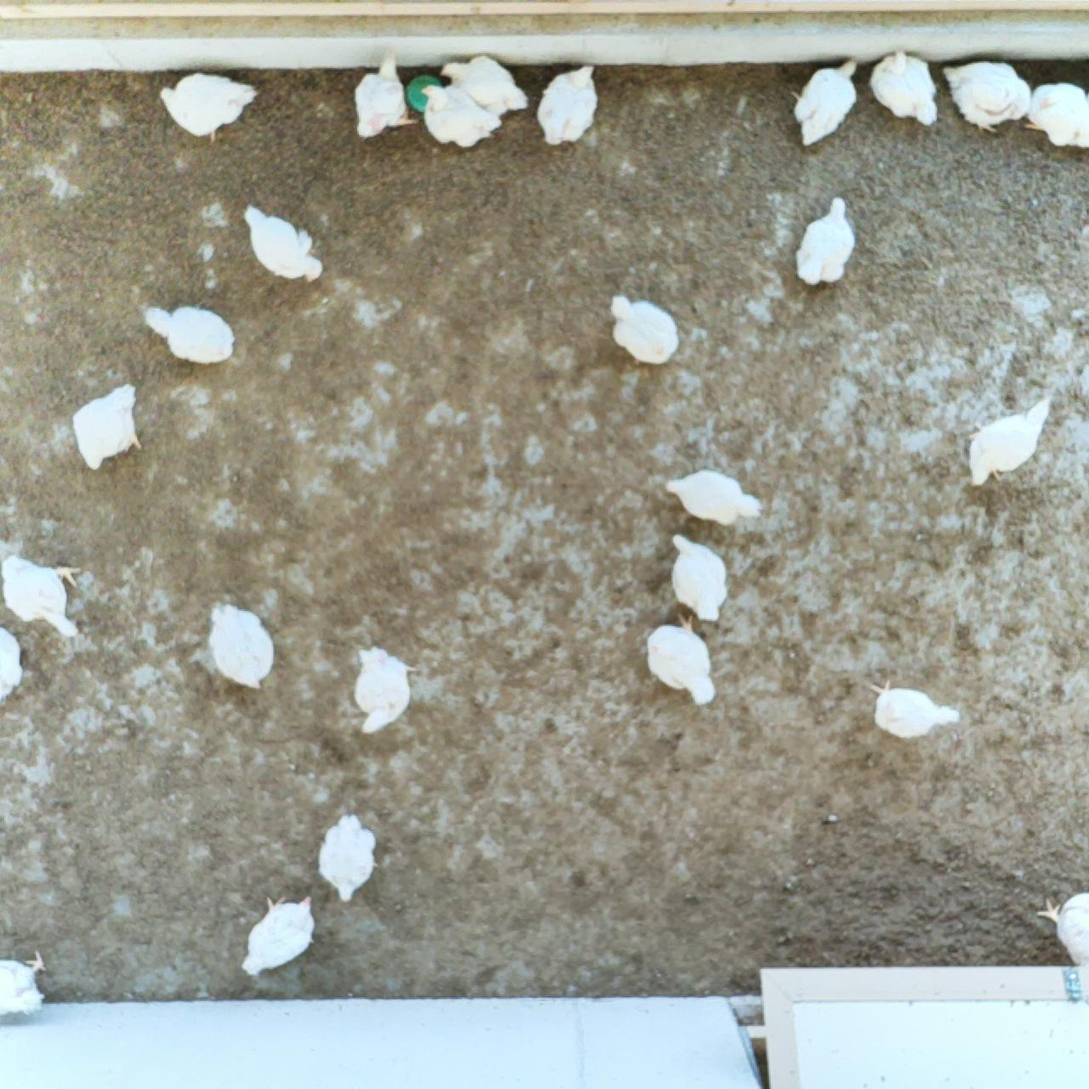chicken: (964, 394, 1055, 491), (158, 68, 261, 148), (239, 197, 327, 285), (643, 610, 718, 710), (940, 58, 1033, 138), (70, 379, 147, 474), (0, 554, 87, 637), (239, 893, 319, 982), (204, 597, 278, 692), (787, 56, 863, 148), (349, 641, 420, 737), (661, 466, 766, 529), (866, 46, 942, 130), (533, 61, 606, 148), (437, 53, 531, 120), (351, 49, 418, 143), (315, 810, 382, 904), (792, 195, 859, 289), (140, 303, 238, 367), (868, 676, 963, 741), (604, 292, 681, 369), (417, 83, 503, 151), (667, 532, 730, 624), (1023, 81, 1089, 149), (1032, 888, 1089, 966), (0, 948, 49, 1019), (0, 624, 26, 705)
